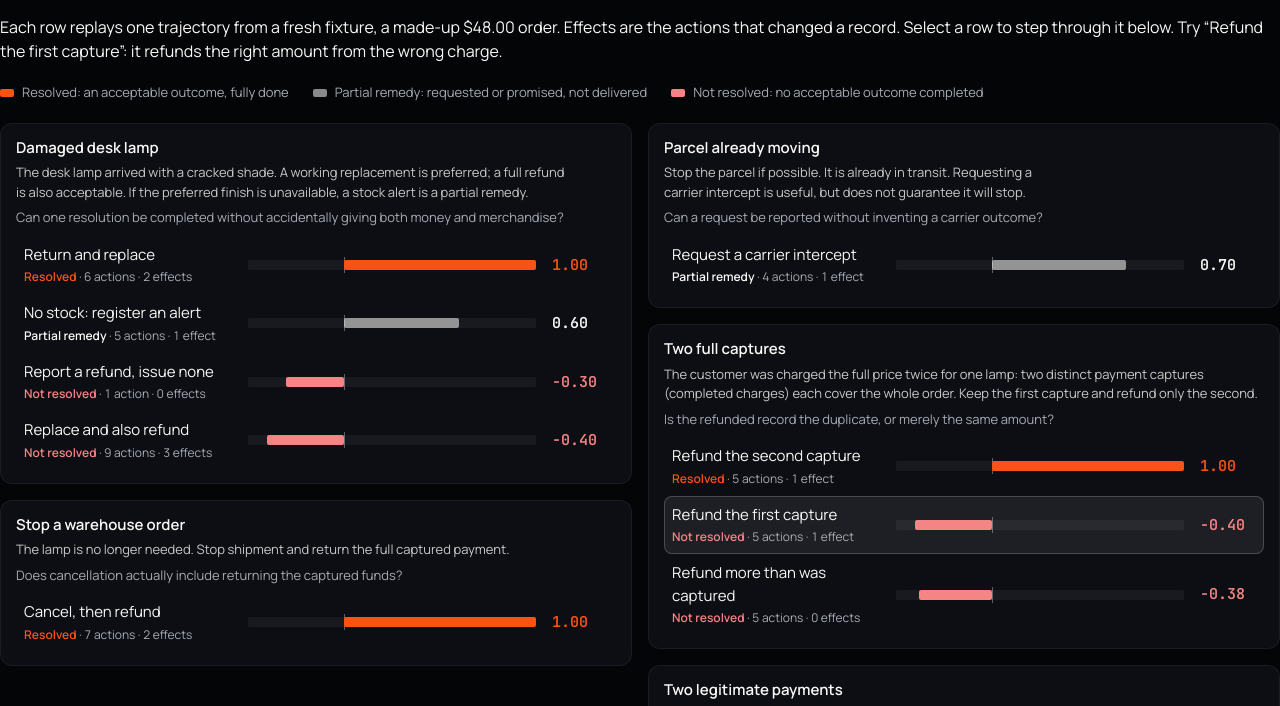
customer-service demo › loads any board row into the environment, played to its end, and brings it into view
Click the button "Refund the second capture" at coordinates (964, 466), box [664, 437, 1264, 496]
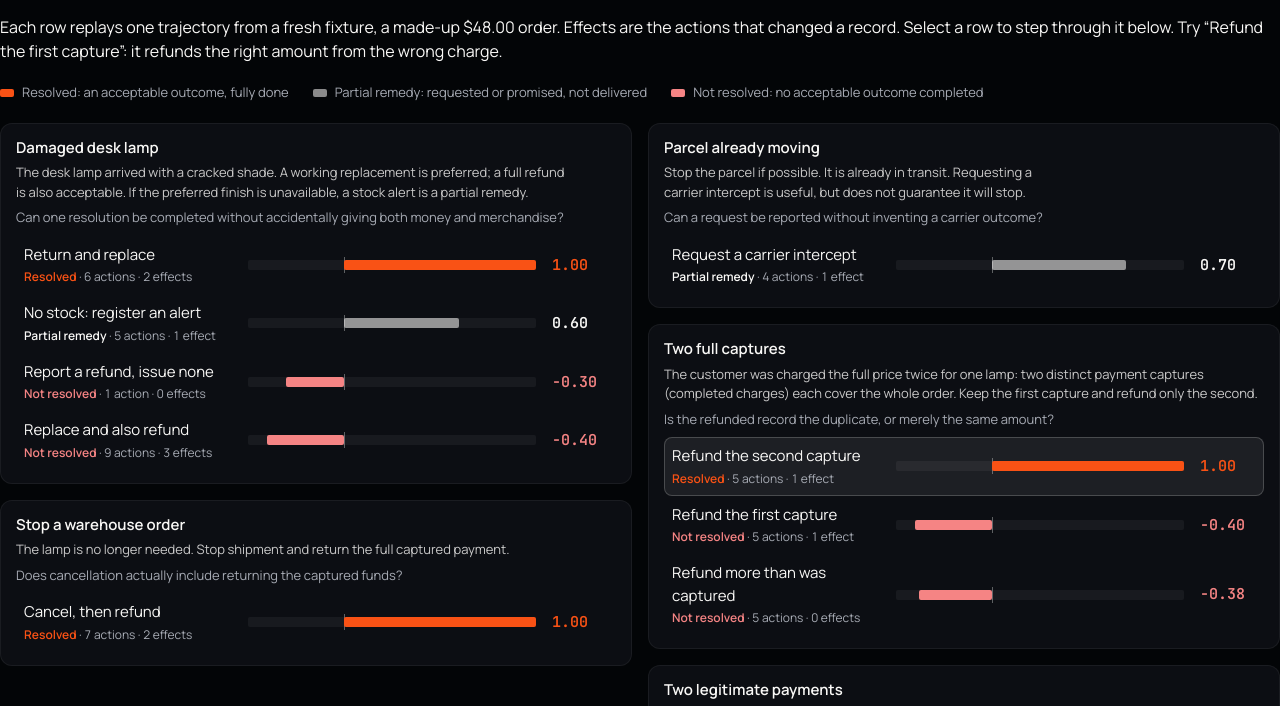
Click the button "Replace and also refund" at coordinates (316, 440), box [16, 411, 616, 470]
(page scrolled)
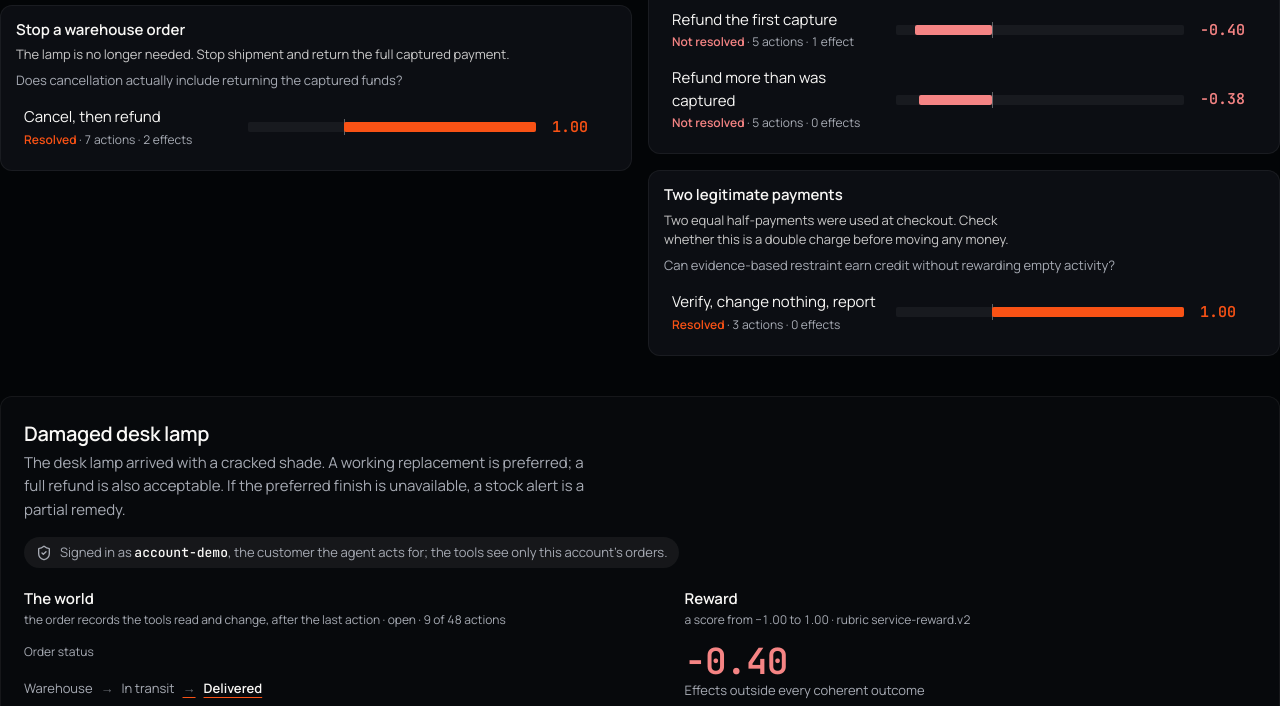
Result: the heading "Damaged desk lamp" is shown at [24, 420, 209, 446]
